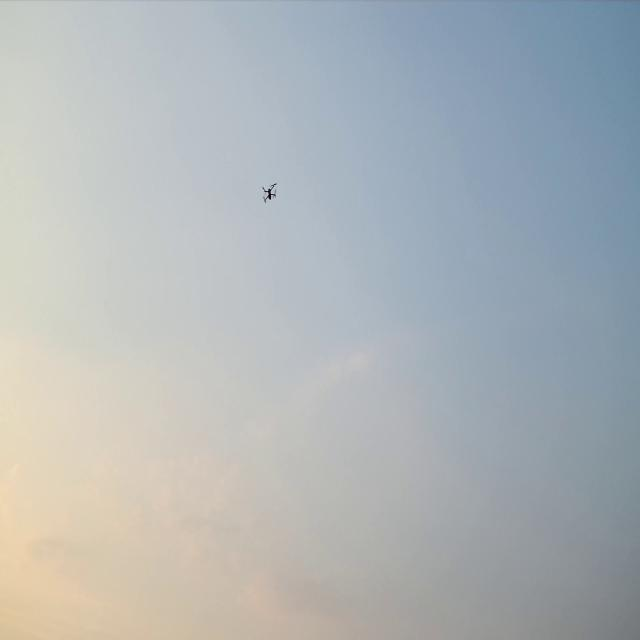UAV: (263, 184, 275, 202)
